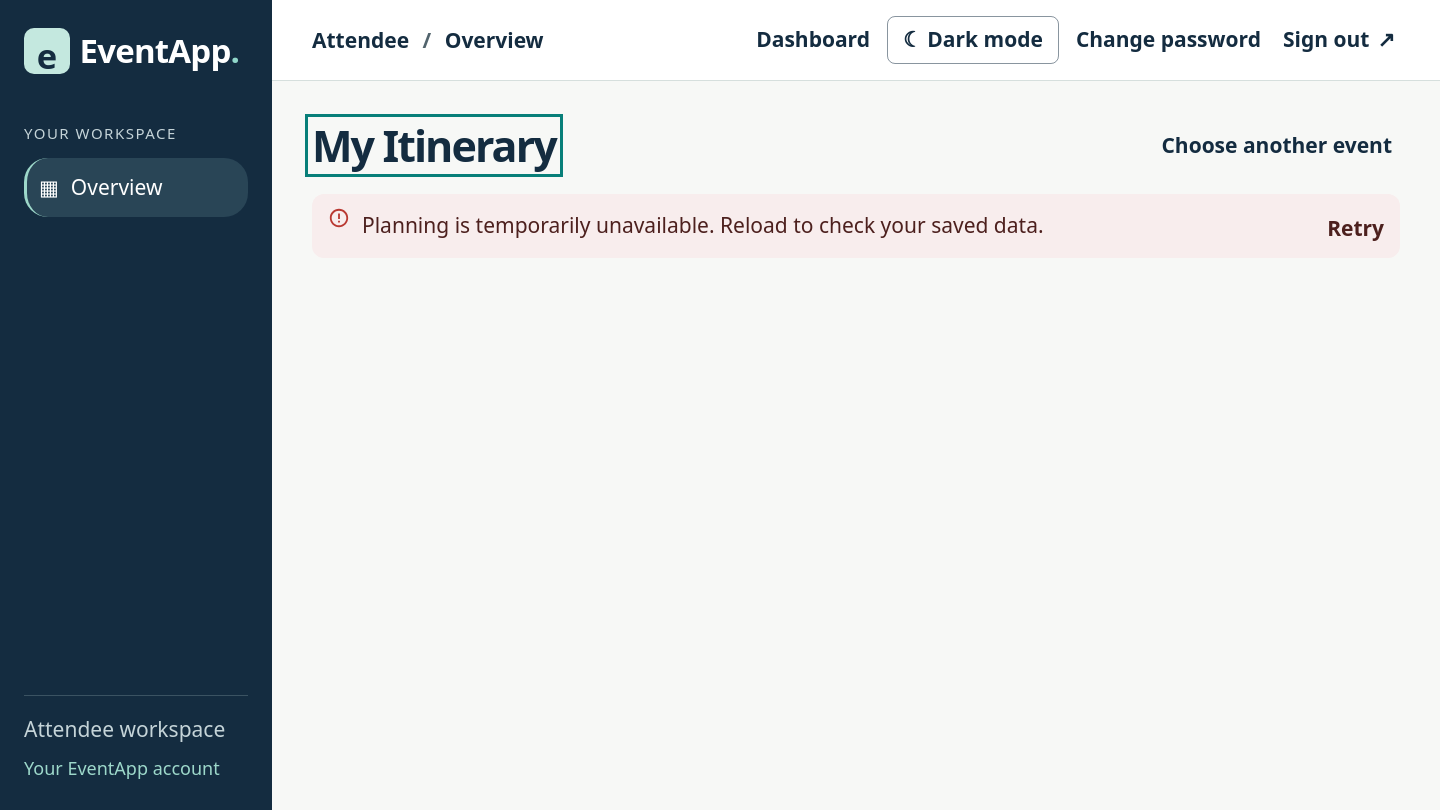
Test: F02-UI07 failed read offers retry and never fabricates a successful empty save
Expected: the heading "My Itinerary" is shown, [312, 121, 556, 170]
Click the button "Retry". click: (1356, 228)
box: [1319, 204, 1392, 252]
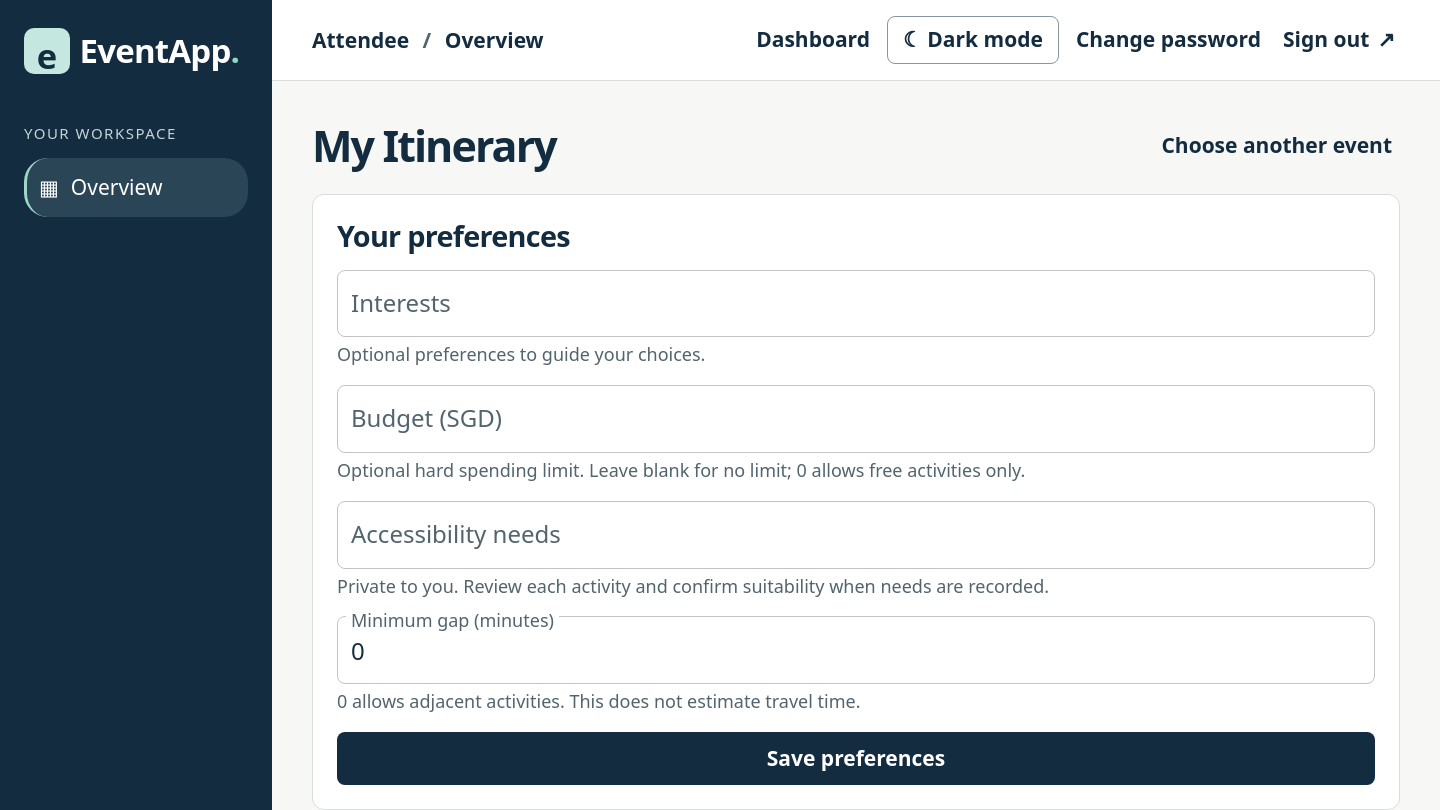
Now the button "Save preferences" is shown, box [337, 732, 1375, 785]
